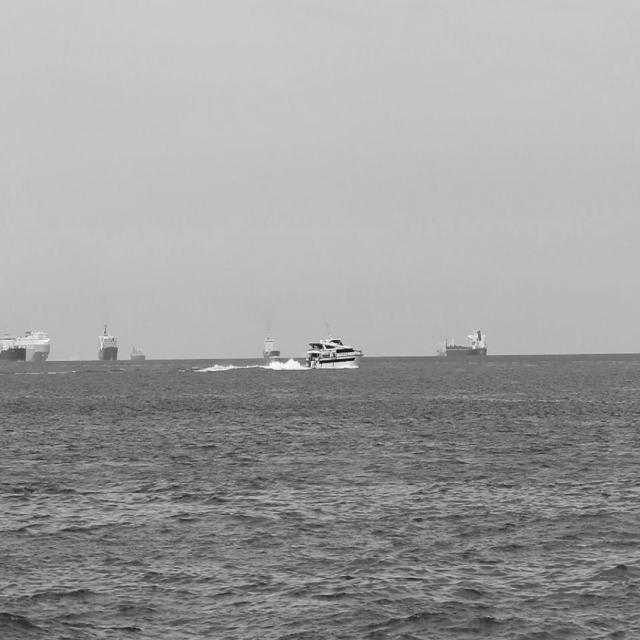ship: (302, 335, 364, 369), (435, 325, 488, 355), (5, 330, 49, 359), (99, 317, 117, 365), (0, 336, 28, 364), (261, 329, 279, 357), (128, 338, 147, 363)
